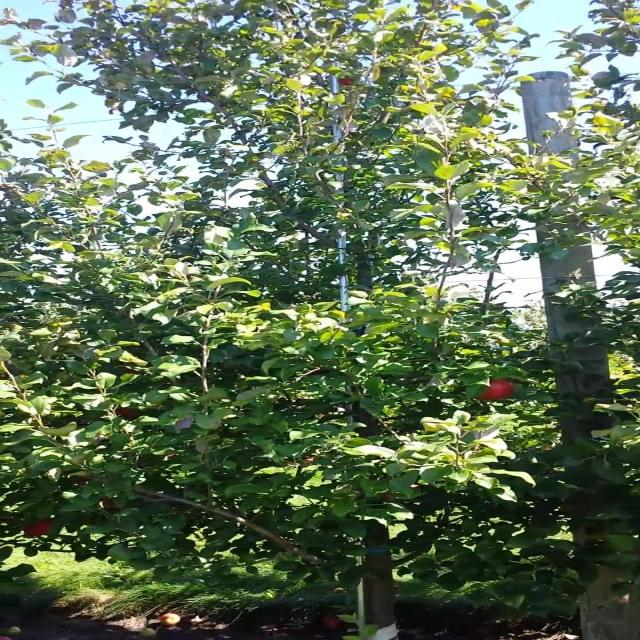apple: (476, 380, 516, 401), (28, 520, 55, 537), (113, 408, 139, 420), (340, 80, 356, 88), (106, 500, 119, 509)
